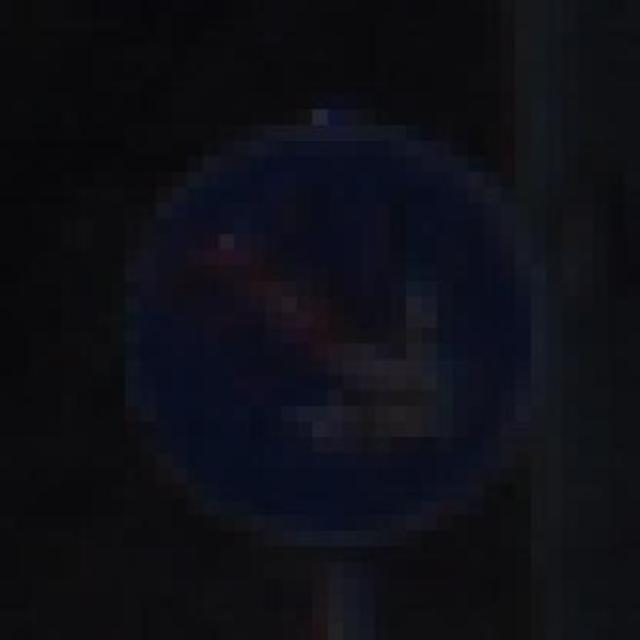Keep-Right: (78, 109, 578, 546)
